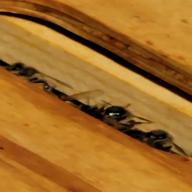Bee: (88, 103, 160, 134)
